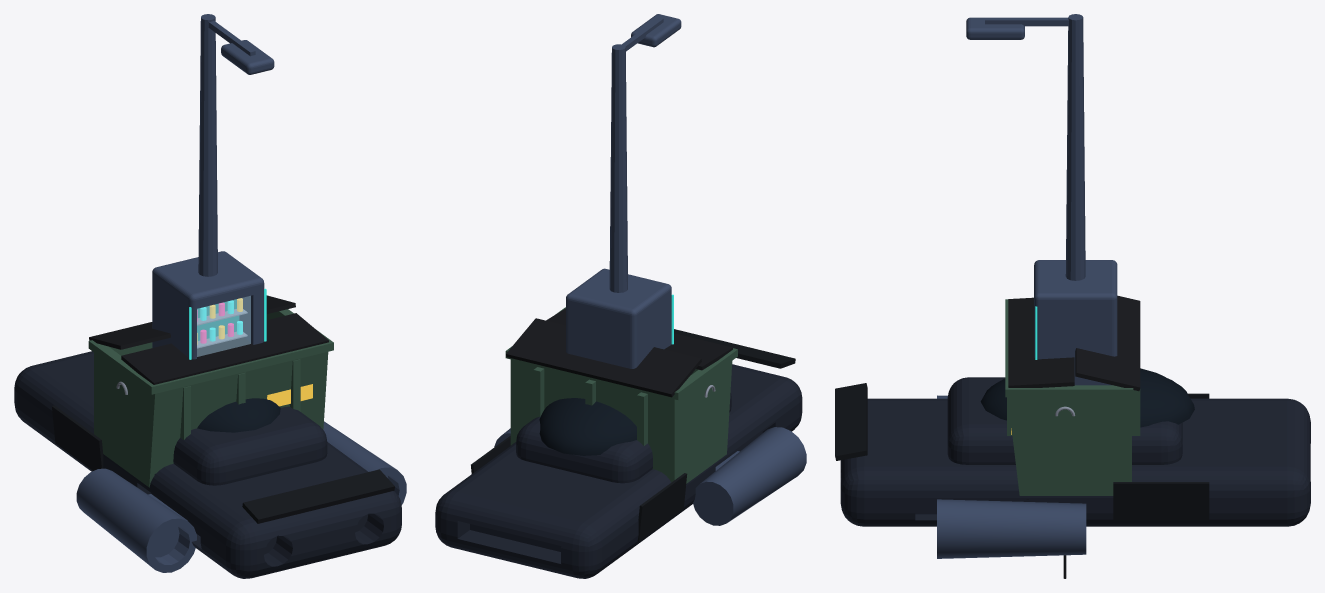
Rendered from props_v2.glb.
3 views of the same model, side by side, from view 1: azimuth 30°, elevation 25°; view 2: azimuth 150°, elevation 25°; view 3: azimuth 270°, elevation 25° (orthographic). The views are drawn at different scales.
Visible parts, largest first — view 1: hover_car, dumpster, vending_cyan, lamp_post, vending_pink; view 2: hover_car, dumpster, vending_cyan, lamp_post; view 3: hover_car, dumpster, vending_cyan, lamp_post.
Boxes of the visible parts, box(x1,y1,x2,y2) form: hover_car: box(14, 351, 406, 578); dumpster: box(88, 295, 333, 487); vending_cyan: box(152, 251, 266, 359); lamp_post: box(198, 14, 274, 276); vending_pink: box(197, 296, 250, 356); hover_car: box(435, 329, 806, 578); dumpster: box(505, 307, 737, 483); vending_cyan: box(566, 268, 673, 368); lamp_post: box(609, 14, 681, 292); hover_car: box(835, 368, 1310, 558); dumpster: box(1005, 295, 1140, 499); vending_cyan: box(1034, 260, 1117, 385); lamp_post: box(966, 14, 1085, 280).
Size of the model in its own units: 2.85 by 5.6 by 4.45.
